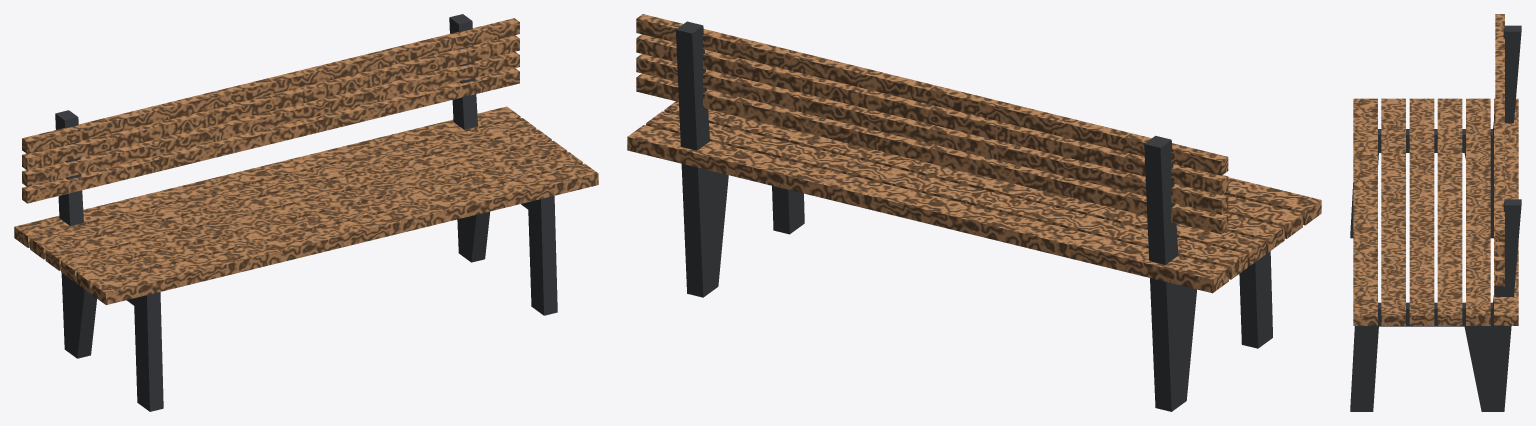
The picture shows the model from 3 angles, left to right: view 1: azimuth 30°, elevation 25°; view 2: azimuth 150°, elevation 25°; view 3: azimuth 270°, elevation 25°; orthographic projection. The views are drawn at different scales.
Parts seen in each view (by area): view 1: armrests=false;backHeight=0.8;backrest=true;depth=0.6;frameM (×2); view 2: armrests=false;backHeight=0.8;backrest=true;depth=0.6;frameM (×2); view 3: armrests=false;backHeight=0.8;backrest=true;depth=0.6;frameM (×2).
Boxes of the visible parts, left/top/right/bottom form: armrests=false;backHeight=0.8;backrest=true;depth=0.6;frameM (×2): left=14, top=14, right=598, bottom=411; armrests=false;backHeight=0.8;backrest=true;depth=0.6;frameM (×2): left=627, top=14, right=1321, bottom=411; armrests=false;backHeight=0.8;backrest=true;depth=0.6;frameM (×2): left=1350, top=14, right=1521, bottom=411.
Bounding box in the file's own units: 1.8 × 0.6 × 0.8.
Materials: 2 (1 with a texture image).
